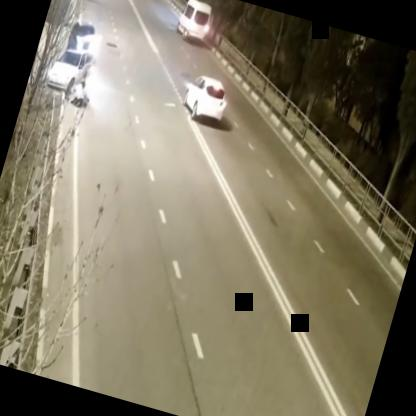accident: (33, 0, 117, 120)
